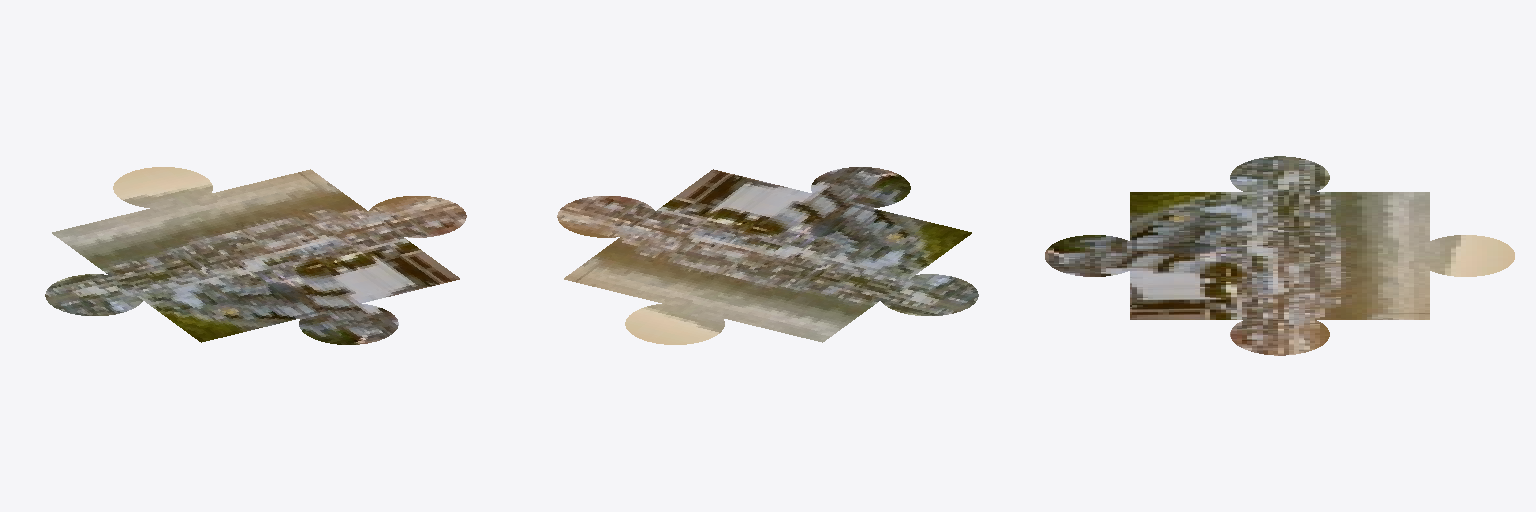
3 renders of one model, left to right at view 1: azimuth 30°, elevation 25°; view 2: azimuth 150°, elevation 25°; view 3: azimuth 270°, elevation 25°, orthographic.
Parts seen in each view (by area): view 1: ͼ��024; view 2: ͼ��024; view 3: ͼ��024.
Part boxes in pixels (bbox=[...]): ͼ��024: bbox=[45, 167, 466, 344]; ͼ��024: bbox=[557, 167, 978, 344]; ͼ��024: bbox=[1045, 156, 1514, 355].
Bounding box in the file's own units: 47.01 × 0 × 47.01.
Materials: 1 (1 with a texture image).